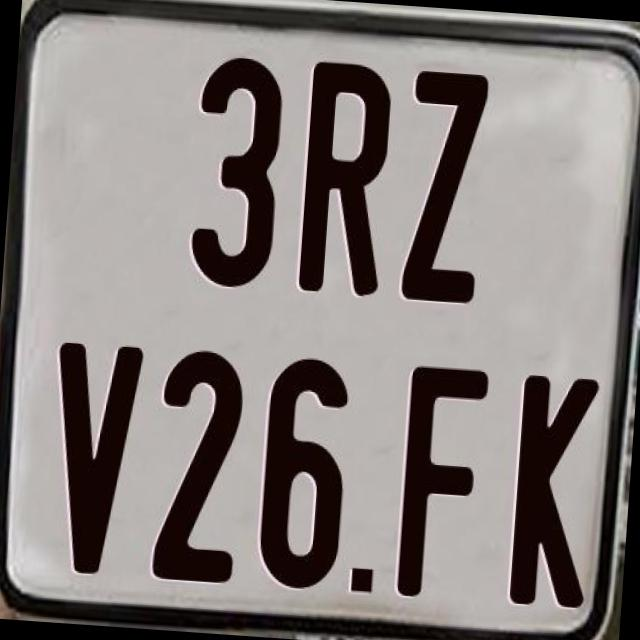2: (149, 346, 247, 592)
3: (185, 50, 284, 284)
6: (252, 350, 354, 590)
F: (393, 360, 488, 602)
K: (504, 372, 604, 612)
R: (294, 60, 389, 298)
V: (40, 340, 146, 575)
Z: (397, 65, 490, 299)
